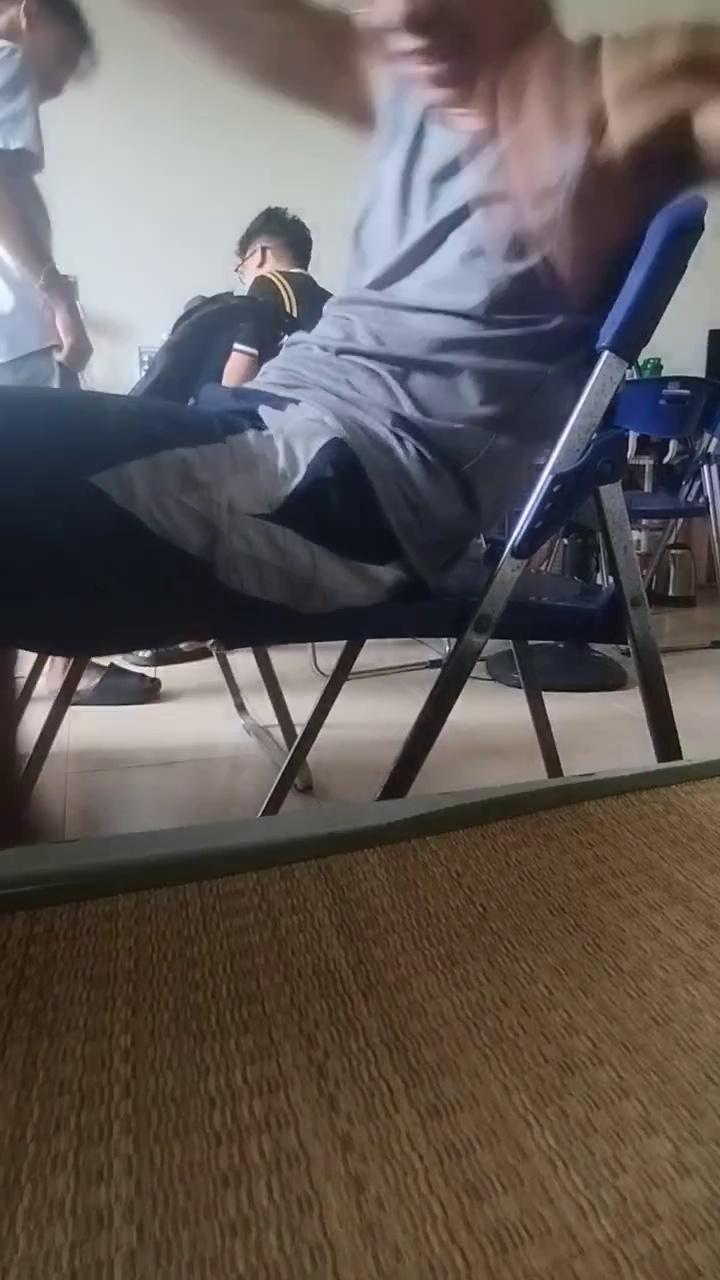BadPosture: (0, 0, 719, 847)
